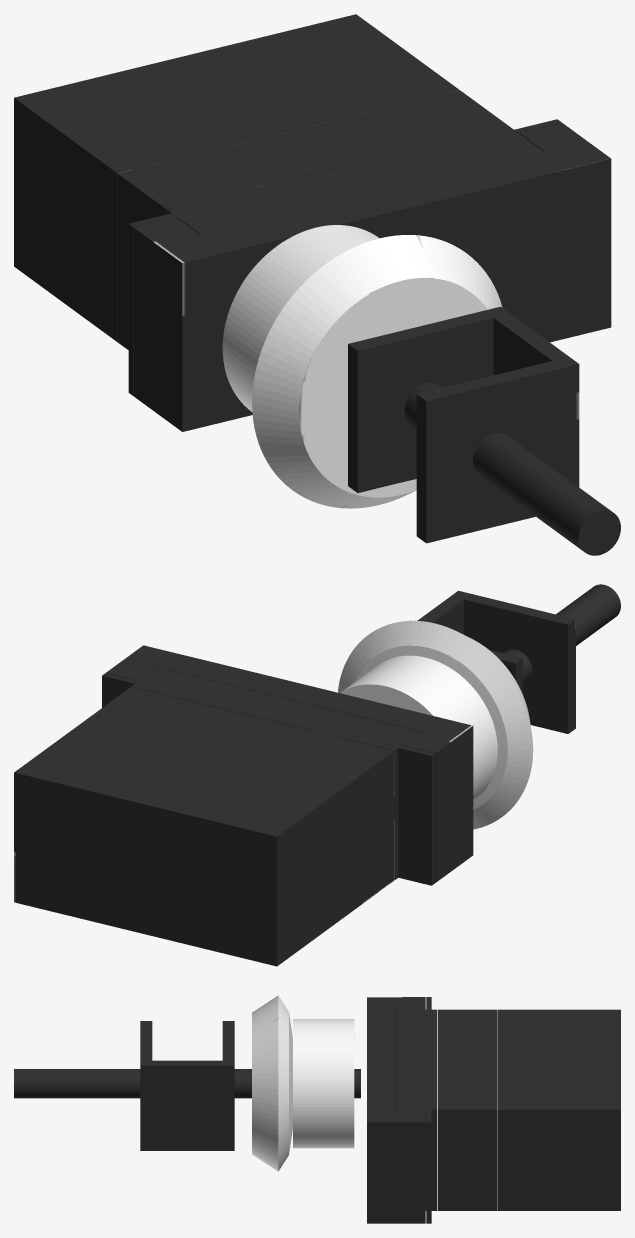
The model's file is TR5_Wrist_1.dae.
3 renders of one model, top to bottom at view 1: azimuth 30°, elevation 25°; view 2: azimuth 150°, elevation 25°; view 3: azimuth 270°, elevation 25°, orthographic. The views are drawn at different scales.
Visible parts, largest first — view 1: Wrist_Pitch; view 2: Wrist_Pitch; view 3: Wrist_Pitch.
Part boxes in pixels (x1,y1,x2,y2): Wrist_Pitch: [14, 14, 620, 555]; Wrist_Pitch: [14, 584, 620, 966]; Wrist_Pitch: [14, 995, 620, 1223].
Size of the model in its own units: 0.051 by 0.1032 by 0.03.
2 materials, 2 textured.
